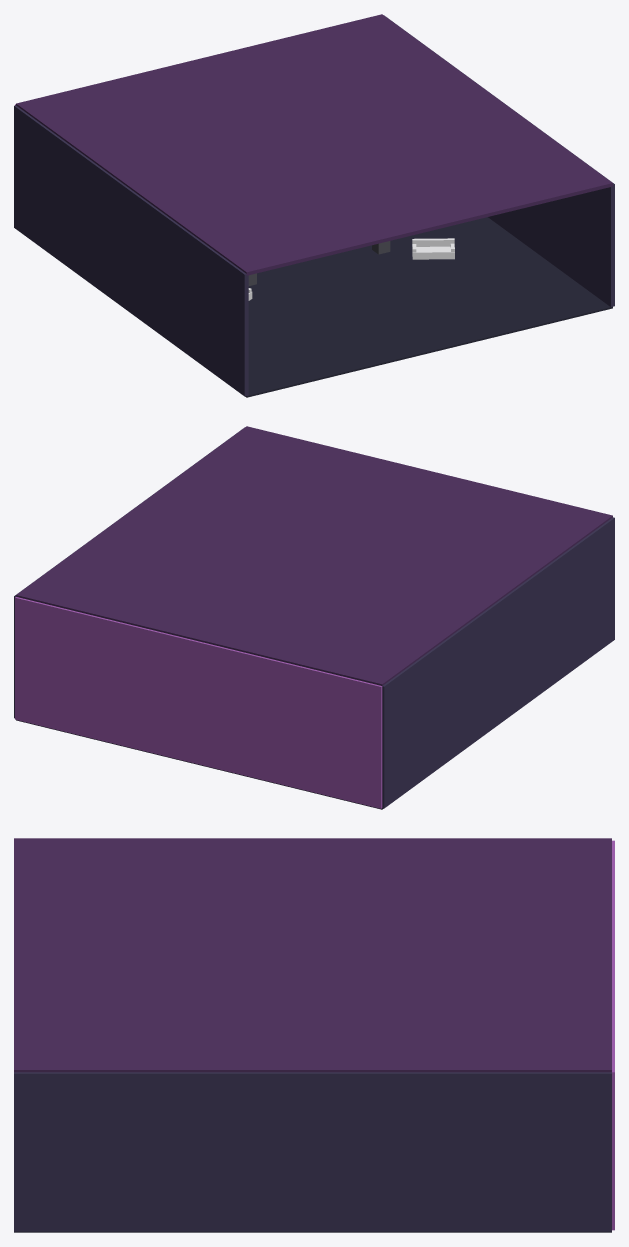
The model's file is skin-cosmic-realm-v1-decorated-world.glb.
The picture shows the model from 3 angles, top to bottom: view 1: azimuth 30°, elevation 25°; view 2: azimuth 150°, elevation 25°; view 3: azimuth 270°, elevation 25°; orthographic projection. The views are drawn at different scales.
Parts seen in each view (by area): view 1: Ceiling, Floor, Wall_L, Wall_R, Sofa_Base.001; view 2: Ceiling, Wall_Back, Wall_L; view 3: Ceiling, Wall_R, Floor, Wall_Back.
Boxes of the visible parts, x1=… form: Ceiling: x1=16, y1=14, x2=612, y2=275; Floor: x1=245, y1=217, x2=612, y2=397; Wall_L: x1=14, y1=105, x2=248, y2=396; Wall_R: x1=384, y1=15, x2=614, y2=306; Sofa_Base.001: x1=412, y1=246, x2=454, y2=259; Ceiling: x1=16, y1=426, x2=612, y2=685; Wall_Back: x1=15, y1=597, x2=382, y2=808; Wall_L: x1=382, y1=517, x2=614, y2=808; Ceiling: x1=14, y1=838, x2=611, y2=1072; Wall_R: x1=14, y1=1072, x2=611, y2=1231; Floor: x1=14, y1=1231, x2=611, y2=1232; Wall_Back: x1=612, y1=840, x2=614, y2=1230.
Bounding box in the file's own units: 22.25 × 7.2 × 24.12.
